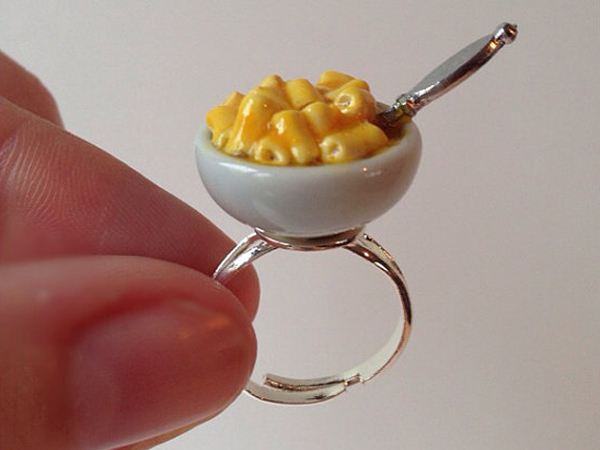macncheese: (203, 66, 404, 172)
